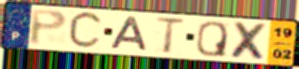A: (109, 15, 150, 52)
C: (66, 10, 105, 52)
P: (29, 9, 70, 48)
Q: (195, 20, 229, 59)
T: (154, 16, 186, 55)
X: (229, 20, 270, 62)
